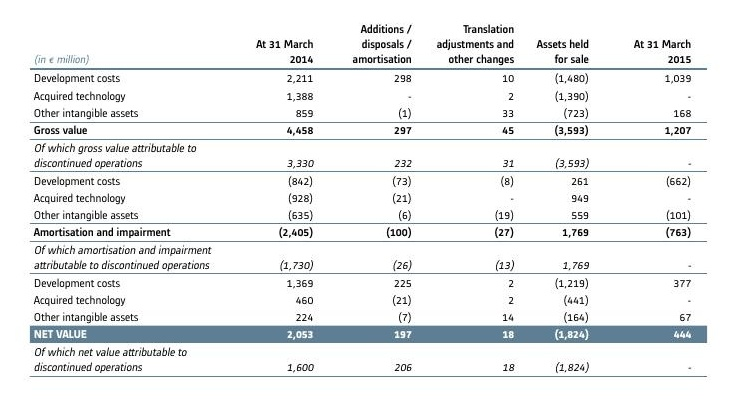table: (0, 0, 734, 399)
